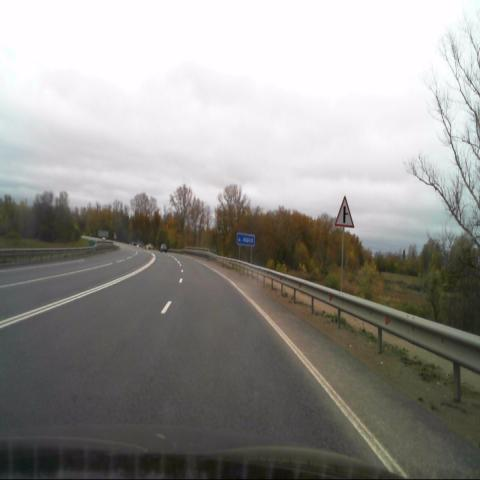2_3_2: (335, 196, 354, 228)
